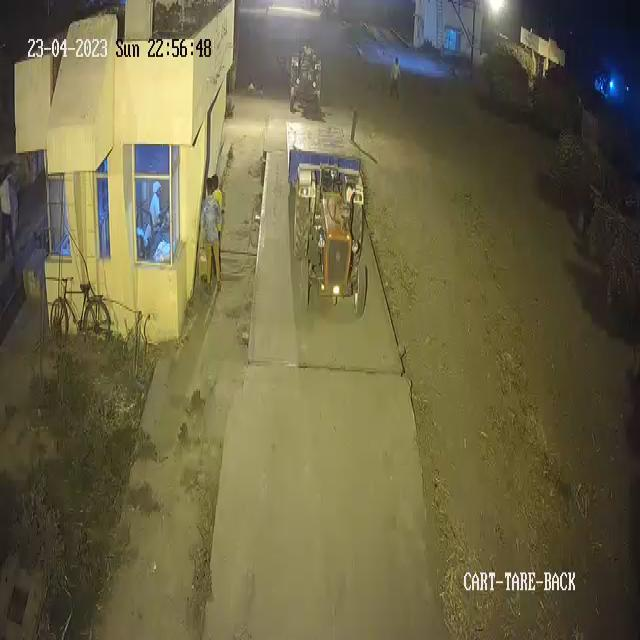Tratores - v5 YOLO V8L 2024-11-13: (289, 155, 372, 337), (286, 50, 325, 118)
